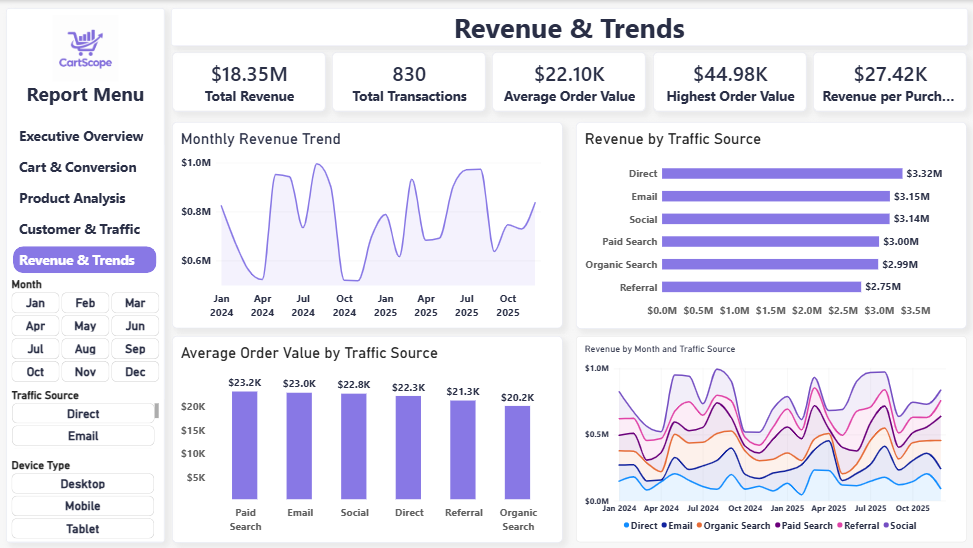

The dashboard page shown, as its layout file describes it:
{"tool":"powerbi","page":{"name":"Revenue & Trends","canvas":[1920,1080],"ordinal":4},"visuals":[{"type":"cardVisual","title":"Total Revenue","fields":{"Data":["_Measures.Total Revenue"]},"box":[341.6,101.4,302,116.8],"z":0},{"type":"cardVisual","title":"Total Revenue","fields":{"Data":["_Measures.Total Transactions"]},"box":[656.2,101.4,302,116.8],"z":1000},{"type":"cardVisual","title":"Total Revenue","fields":{"Data":["_Measures.Highest Order Value"]},"box":[1285.4,101.4,302,116.8],"z":2000},{"type":"cardVisual","title":"Total Revenue","fields":{"Data":["_Measures.Average Order Value"]},"box":[970.8,101.4,302,116.8],"z":3000},{"type":"cardVisual","title":"Total Revenue","fields":{"Data":["_Measures.Revenue per Purchasing Visitor"]},"box":[1600,102.2,302,116.8],"z":5000},{"type":"lineChart","title":"Monthly Revenue Trend","fields":{"Category":["transactions.transaction_date.Variation.Date Hierarchy.Year","transactions.transaction_date.Variation.Date Hierarchy.Month"],"Y":["_Measures.Total Revenue"]},"box":[341.6,239,767,405],"z":6000},{"type":"clusteredBarChart","title":"Revenue by Traffic Source","fields":{"Category":["sessions.traffic_source"],"Y":["_Measures.Total Revenue"]},"box":[1135.1,239,767,405.6],"z":7000},{"type":"stackedAreaChart","title":"Revenue by Month and Traffic Source","fields":{"Category":["transactions.transaction_date.Variation.Date Hierarchy.Year","transactions.transaction_date.Variation.Date Hierarchy.Month"],"Series":["sessions.traffic_source"],"Y":["_Measures.Total Revenue"]},"box":[1135,659,767,405],"z":8000},{"type":"columnChart","title":"Average Order Value by Traffic Source","fields":{"Category":["sessions.traffic_source"],"Y":["_Measures.Average Order Value"]},"box":[341.6,659,767,405.6],"z":9000},{"type":"shape","box":[15,15,312,1050],"z":10000},{"type":"shape","box":[340,15,1565,75],"z":11000},{"type":"textbox","box":[342.5,15,1560,75],"z":12000},{"type":"pageNavigator","box":[30,240,282,300],"z":13000},{"type":"image","box":[16,30,312,130],"z":14000},{"type":"textbox","box":[16,160,312,58],"z":15000},{"type":"advancedSlicerVisual","title":"Month","fields":{"Values":["transactions.Txn Month Short"]},"box":[22.5,540,300,217.5],"z":16000},{"type":"advancedSlicerVisual","title":"Traffic Source","fields":{"Values":["sessions.traffic_source"]},"box":[22,758.2,299.8,127.8],"z":17000},{"type":"advancedSlicerVisual","title":"Device Type","fields":{"Values":["sessions.device_type"]},"box":[22,894.9,299.8,169.7],"z":18000}]}

Visuals, with their boxes in screenshot pixels (x1, y1, x2, y2), scaled from the page's 1920x1080 canvas onto the 973x548 screenshot:
"Total Revenue" cardVisual: 173:51:326:111
"Total Revenue" cardVisual: 333:51:486:111
"Total Revenue" cardVisual: 651:51:804:111
"Total Revenue" cardVisual: 492:51:645:111
"Total Revenue" cardVisual: 811:52:964:111
"Monthly Revenue Trend" lineChart: 173:121:562:327
"Revenue by Traffic Source" clusteredBarChart: 575:121:964:327
"Revenue by Month and Traffic Source" stackedAreaChart: 575:334:964:540
"Average Order Value by Traffic Source" columnChart: 173:334:562:540
shape: 8:8:166:540
shape: 172:8:965:46
textbox: 174:8:964:46
pageNavigator: 15:122:158:274
image: 8:15:166:81
textbox: 8:81:166:111
"Month" advancedSlicerVisual: 11:274:163:384
"Traffic Source" advancedSlicerVisual: 11:385:163:450
"Device Type" advancedSlicerVisual: 11:454:163:540
